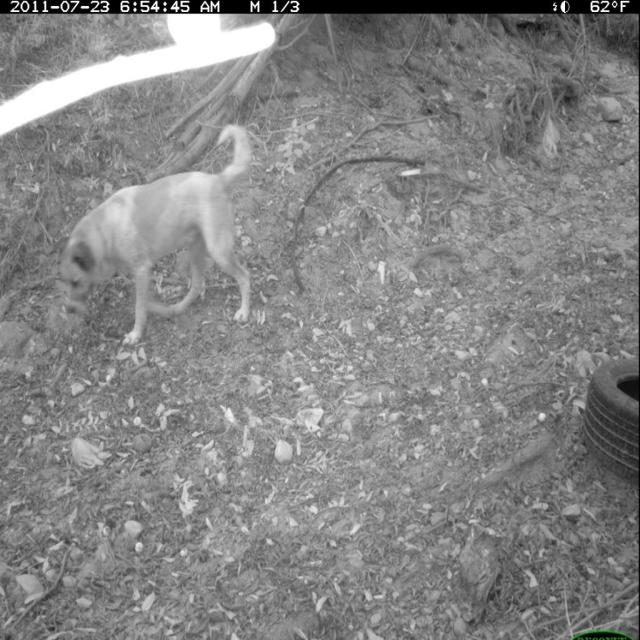dog: (54, 120, 260, 352)
